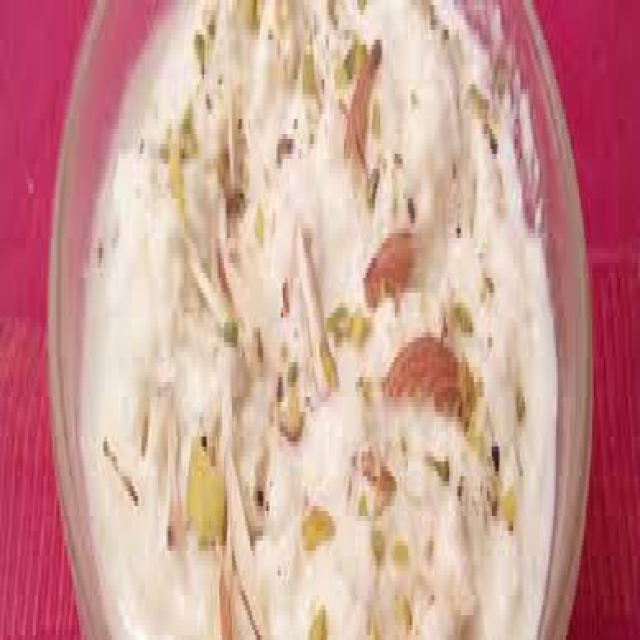Kheer: (88, 0, 554, 640)
